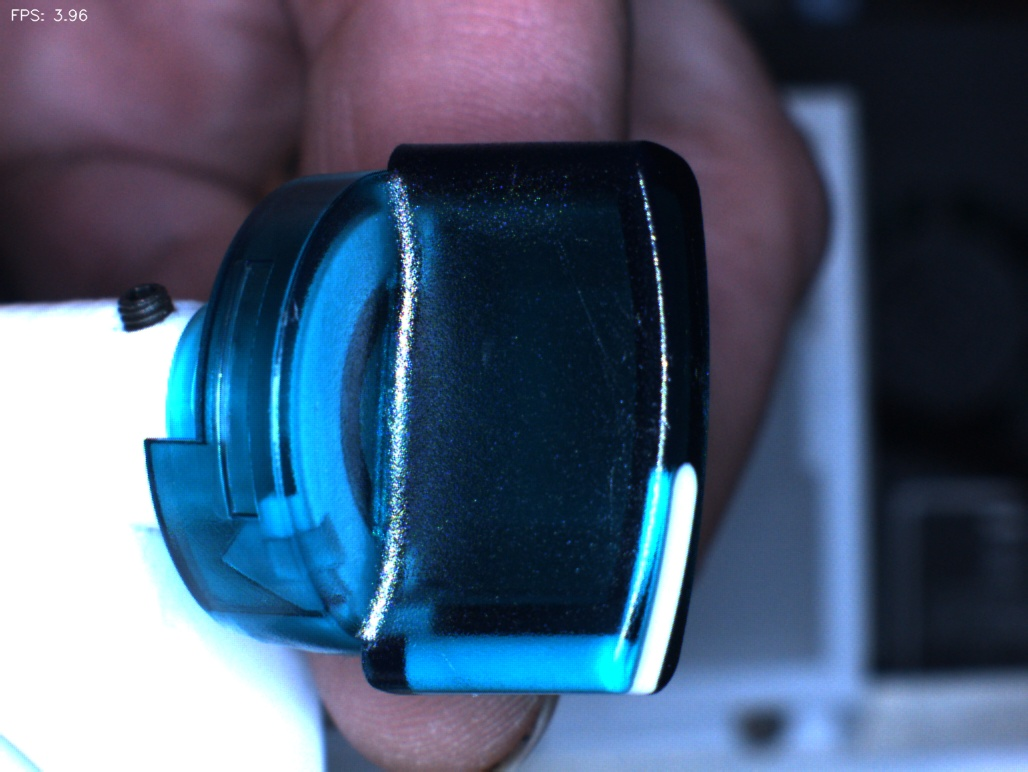Givrage: (561, 238, 668, 446)
